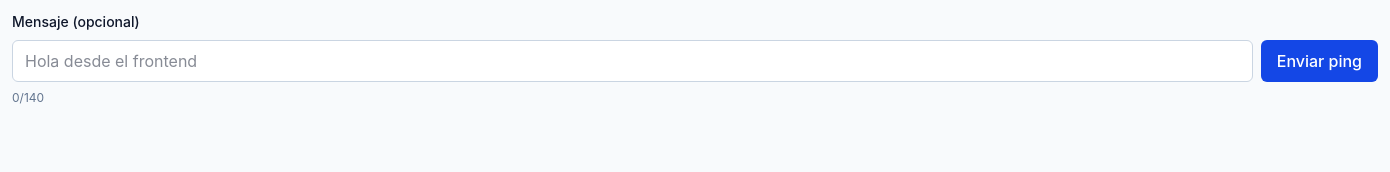
Scenario: PingForm › muestra el detalle del error 400 que envía el backend
This screenshot has width=1390, height=172.
In the field labelled "Mensaje (opcional)": (632, 61) [12, 40, 1253, 82], type "texto"
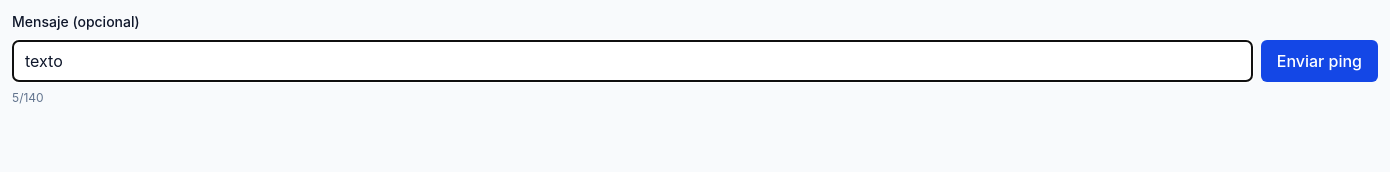
Click the button "Enviar ping": (1319, 61) [1261, 40, 1378, 82]
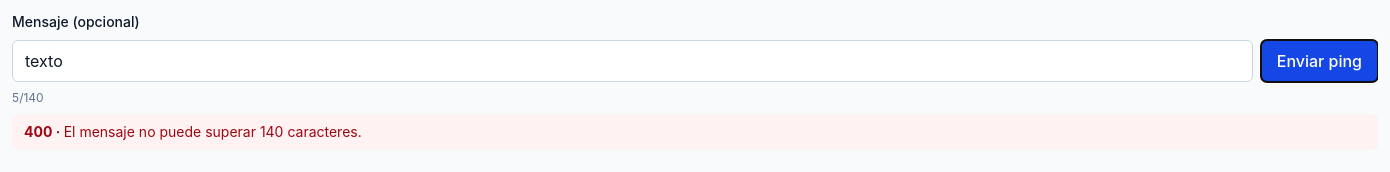
expect the message shows "El mensaje no puede superar 140 caracteres.": met, box [64, 123, 362, 140]
